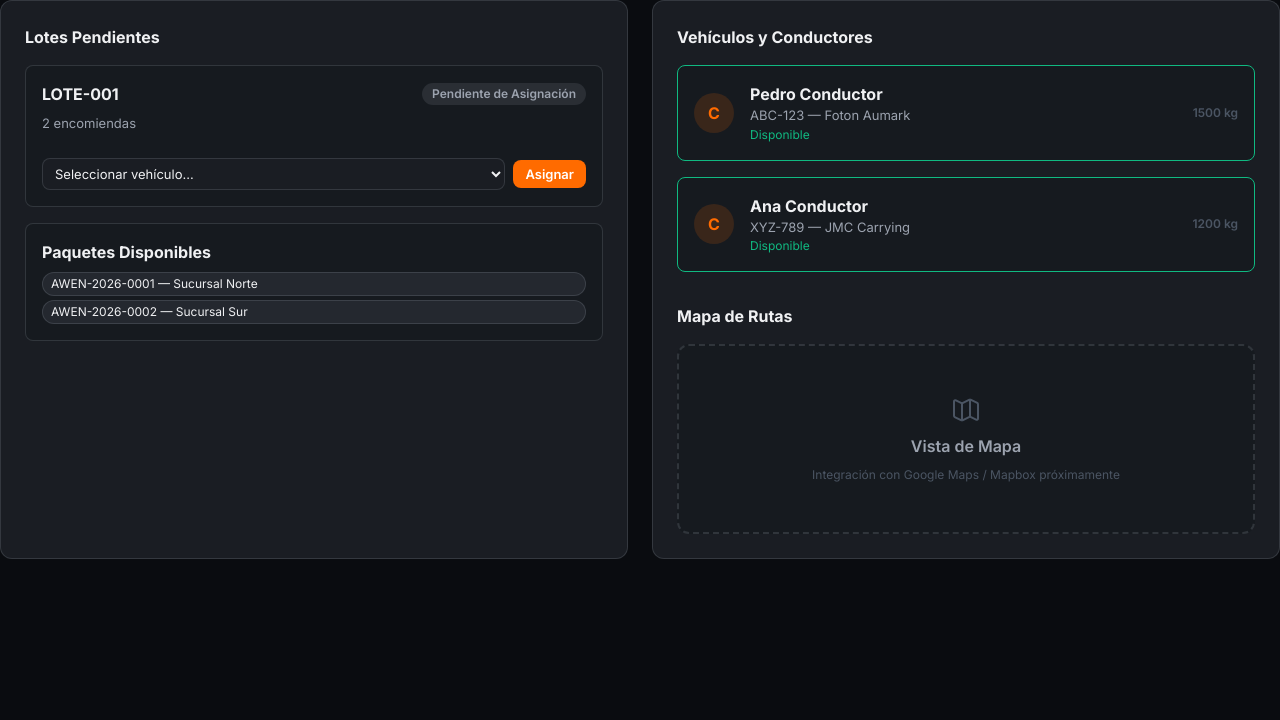
Test: Logistics › expande un lote y muestra sus envios
This screenshot has width=1280, height=720.
Expected: the text "LOTE-001" is shown, x1=42 y1=82 x2=119 y2=106
Click the text "2 encomiendas". click: (89, 123)
box: x1=42 y1=115 x2=136 y2=131
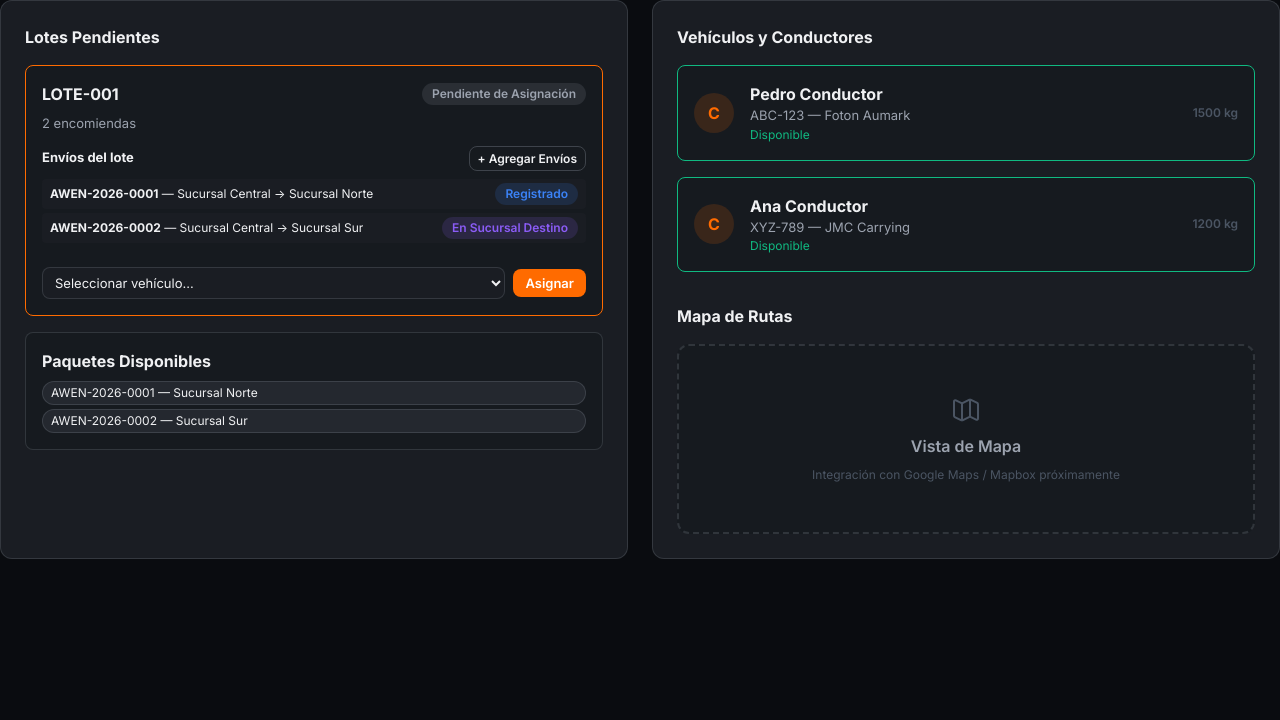
Now the text "Envíos del lote" is shown, box x1=42 y1=148 x2=134 y2=168
Now the text "AWEN-2026-0001" is shown, box x1=50 y1=186 x2=158 y2=200
Now the text "AWEN-2026-0002" is shown, box x1=50 y1=220 x2=161 y2=234
